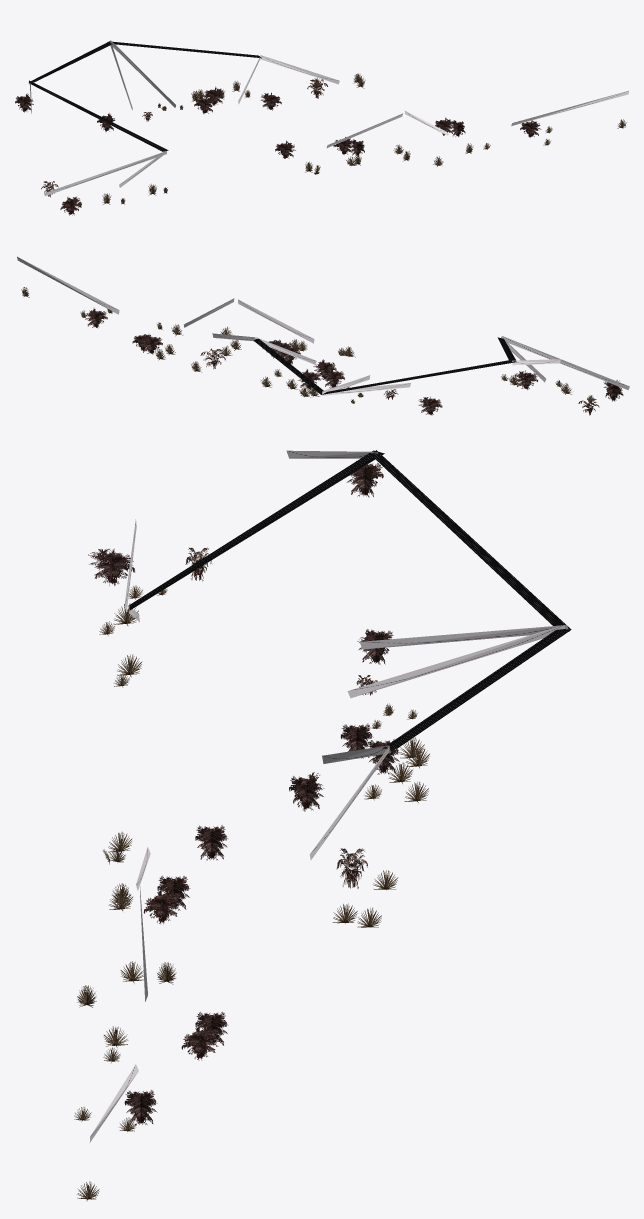
Rendered from bighillalpha2.obj.
3 views of the same model, one above another, from view 1: azimuth 30°, elevation 25°; view 2: azimuth 150°, elevation 25°; view 3: azimuth 270°, elevation 25° (orthographic). The views are drawn at different scales.
Parts seen in each view (by area): view 1: bighillalpha2; view 2: bighillalpha2; view 3: bighillalpha2.
Part boxes in pixels (x1=…): bighillalpha2: x1=15, y1=40, x2=628, y2=215; bighillalpha2: x1=17, y1=256, x2=629, y2=415; bighillalpha2: x1=74, y1=450, x2=571, y2=1200.
Bounding box in the file's own units: 181 × 36.56 × 67.96.
